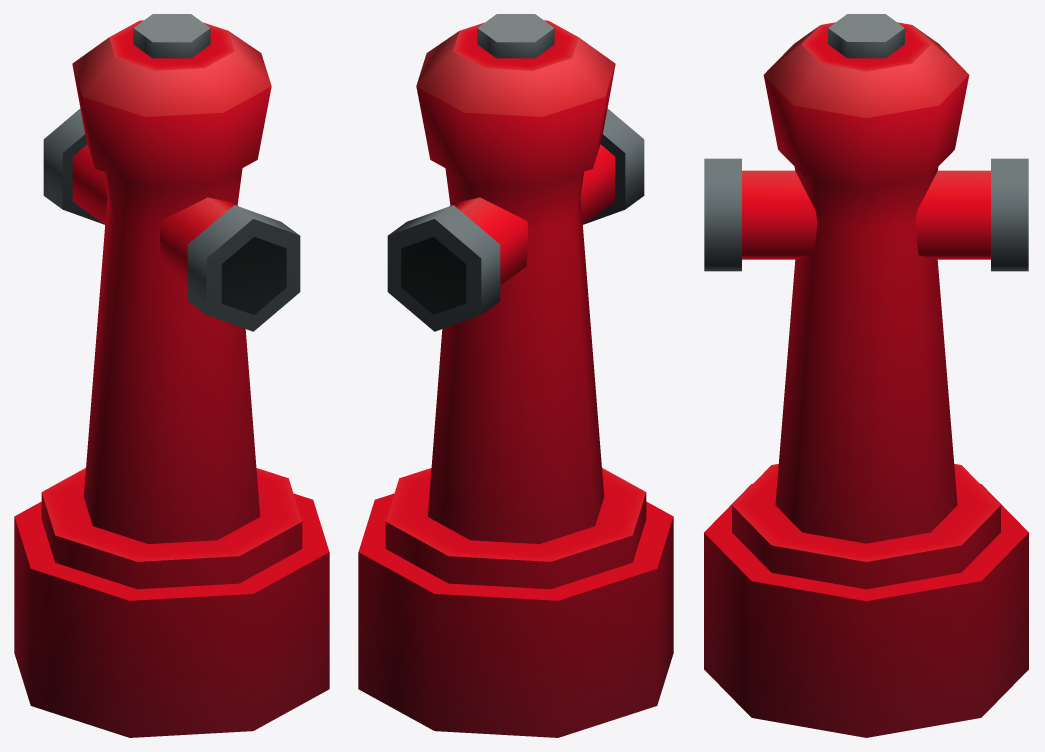
File: TSP_Hydrant_01A.fbx
3 views of the same model, side by side, from view 1: azimuth 30°, elevation 25°; view 2: azimuth 150°, elevation 25°; view 3: azimuth 270°, elevation 25° (orthographic).
Visible parts, largest first — view 1: TSP_Hydrant_01A; view 2: TSP_Hydrant_01A; view 3: TSP_Hydrant_01A.
Part boxes in pixels (x1=…): TSP_Hydrant_01A: x1=14, y1=14, x2=329, y2=737; TSP_Hydrant_01A: x1=358, y1=14, x2=673, y2=737; TSP_Hydrant_01A: x1=704, y1=14, x2=1028, y2=737.
Size of the model in its own units: 0.5387 by 1.17 by 0.5437.
